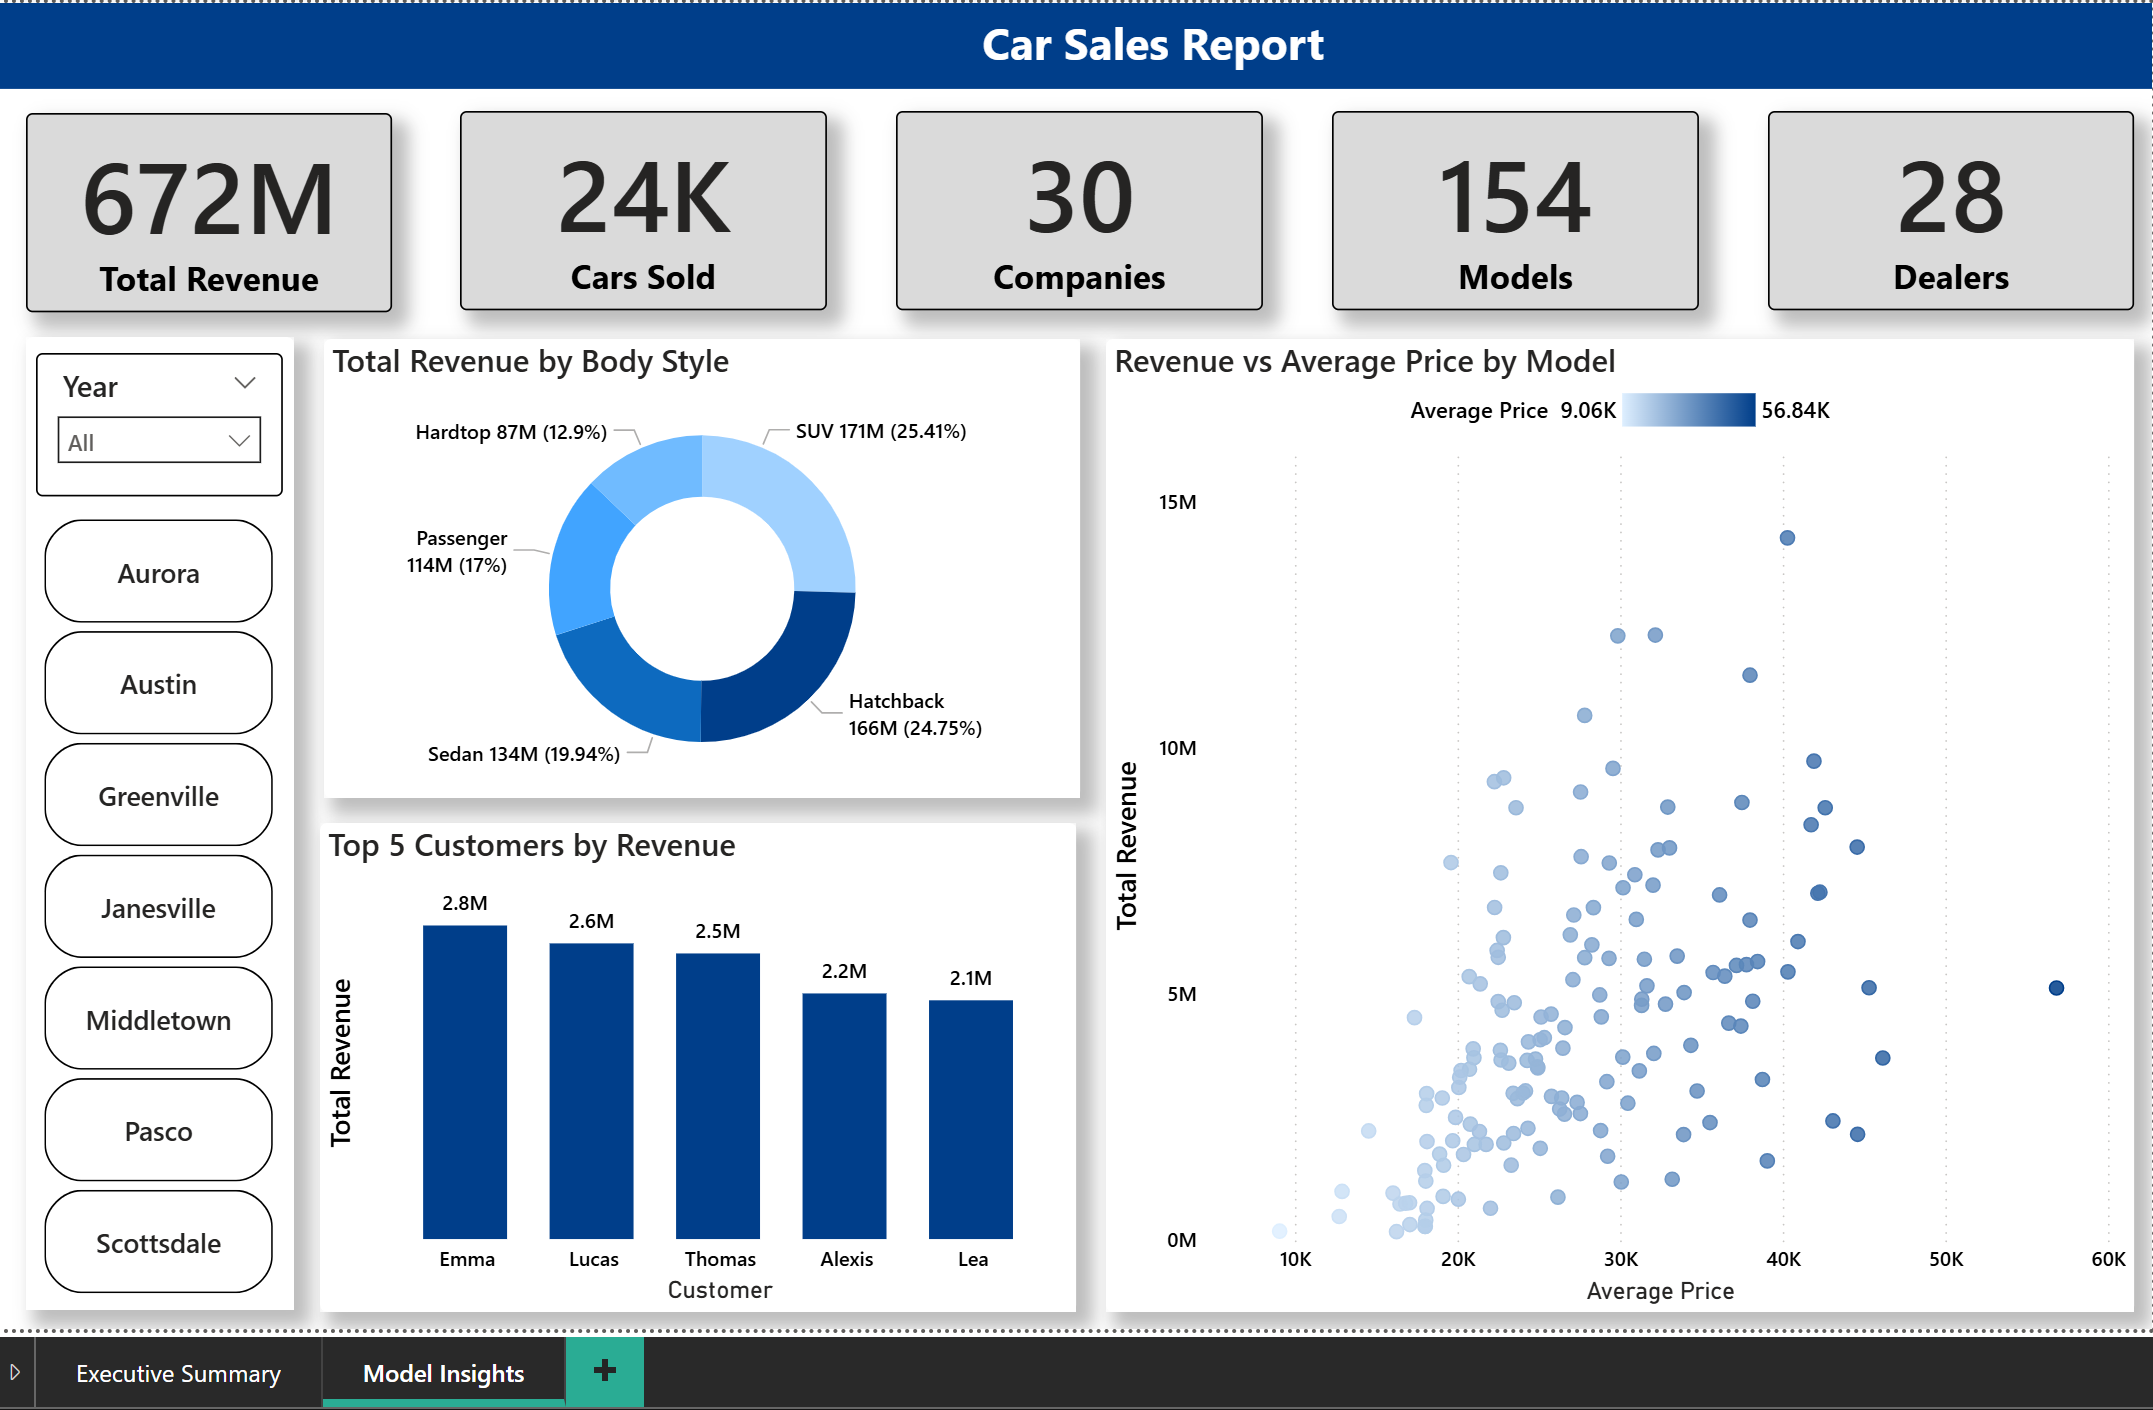

The page's visual inventory and layout, read from the dashboard file:
{"tool":"powerbi","page":{"name":"Model Insights","canvas":[1290,795],"ordinal":1},"visuals":[{"type":"textbox","box":[0,0,1390.2,51.4],"z":0},{"type":"card","fields":{"Values":["Octro.Total Entries"]},"box":[276.3,64.5,220,119.5],"z":1000},{"type":"card","fields":{"Values":["Octro.Total Price"]},"box":[15.4,65.5,219.7,119.5],"z":2000},{"type":"card","fields":{"Values":["Octro.Company Count"]},"box":[537.6,64.7,220,119.5],"z":3000},{"type":"shape","box":[15.4,200.4,160.6,583.3],"z":4000},{"type":"card","fields":{"Values":["Octro.Dealer Count"]},"box":[1060,64.2,219.7,119.5],"z":5000},{"type":"card","fields":{"Values":["Octro.Model Count"]},"box":[798.8,65.2,220,119.5],"z":6000},{"type":"slicer","fields":{"Values":["Date Table.Year"]},"box":[21.8,209.4,147.8,86.1],"z":7000},{"type":"advancedSlicerVisual","fields":{"Values":["Octro.City"]},"box":[21.8,304.5,147.8,474.1],"z":8000},{"type":"shape","box":[194,201.7,453.6,275],"z":9000},{"type":"shape","box":[191.4,492.1,453.6,292.9],"z":15000},{"type":"donutChart","fields":{"Category":["Octro.Body Style"],"Y":["Octro.Total Price"]},"box":[194,201.7,453.6,275],"z":18001},{"type":"columnChart","title":"Top 5 Customers by Revenue","fields":{"Y":["Octro.Total Price"],"Category":["Octro.Customer Name"]},"box":[191.4,492.1,453.6,292.9],"z":18002},{"type":"shape","box":[663,201.7,616.7,583.3],"z":18003},{"type":"scatterChart","title":"Revenue vs Average Price by Model","fields":{"Category":["Octro.Model"],"X":["Octro.Avg Price"],"Y":["Octro.Total Price"]},"box":[663,201.7,616.7,583.3],"z":18004}]}

Visuals, with their boxes in screenshot pixels (x1, y1, x2, y2):
textbox: box(0, 0, 2152, 76)
card - Octro.Total Entries: box(427, 99, 802, 303)
card - Octro.Total Price: box(0, 101, 356, 304)
card - Octro.Company Count: box(873, 99, 1248, 303)
shape: box(0, 331, 255, 1326)
card - Octro.Dealer Count: box(1764, 98, 2139, 302)
card - Octro.Model Count: box(1318, 100, 1694, 304)
slicer - Date Table.Year: box(0, 346, 245, 493)
advancedSlicerVisual - Octro.City: box(0, 508, 245, 1317)
shape: box(286, 333, 1060, 802)
shape: box(282, 829, 1056, 1328)
donutChart - Octro.Body Style x Octro.Total Price: box(286, 333, 1060, 802)
"Top 5 Customers by Revenue" columnChart: box(282, 829, 1056, 1328)
shape: box(1086, 333, 2139, 1328)
"Revenue vs Average Price by Model" scatterChart: box(1086, 333, 2139, 1328)
